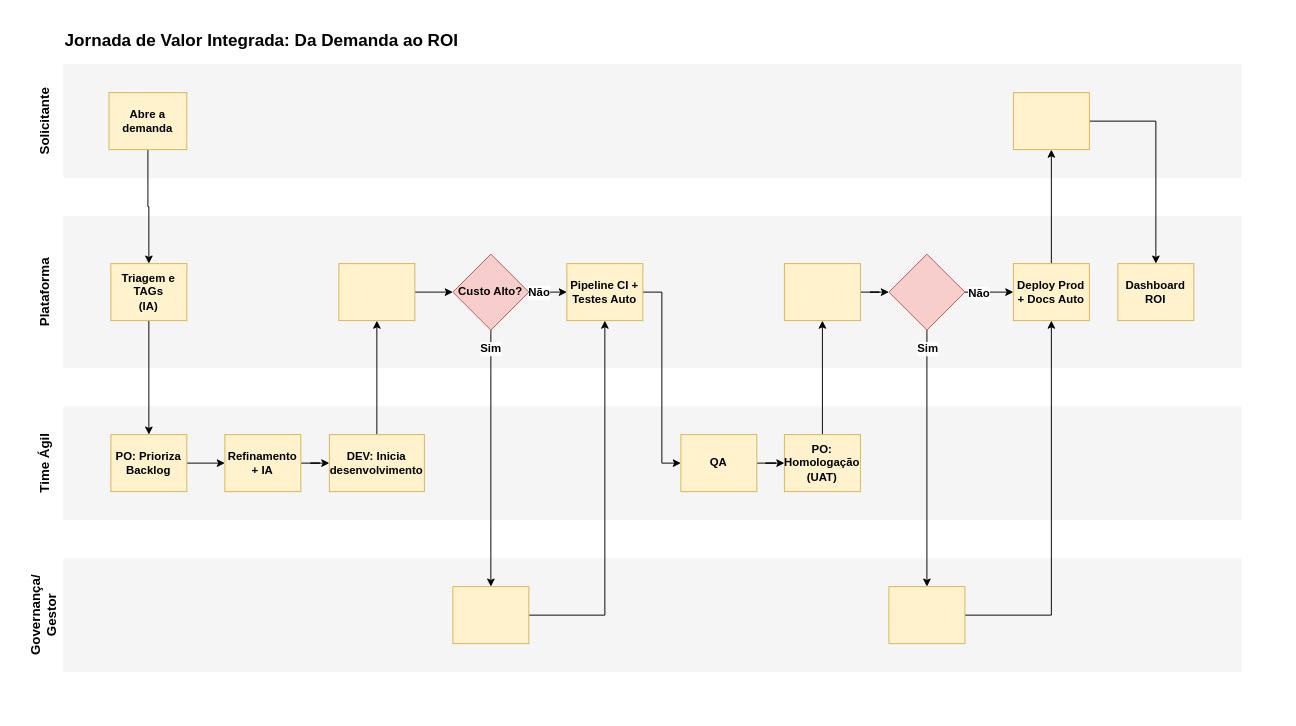
The diagram is 1296 pixels wide and 726 high, and some of its shapes have lost their labels. Here are the shapes that lost their labels. From the top down, the centre of each, then its label:
At point 1050,121: "Responde Pesquisa NPS".
At point 376,292: "Provisiona Infra DEV (Terraform)".
At point 821,292: "Gera GMUD + Risk Score".
At point 926,291: "Risco Alto?".
At point 490,615: "Aprova Custo Extra".
At point 926,615: "Comitê CAB Aprova".
